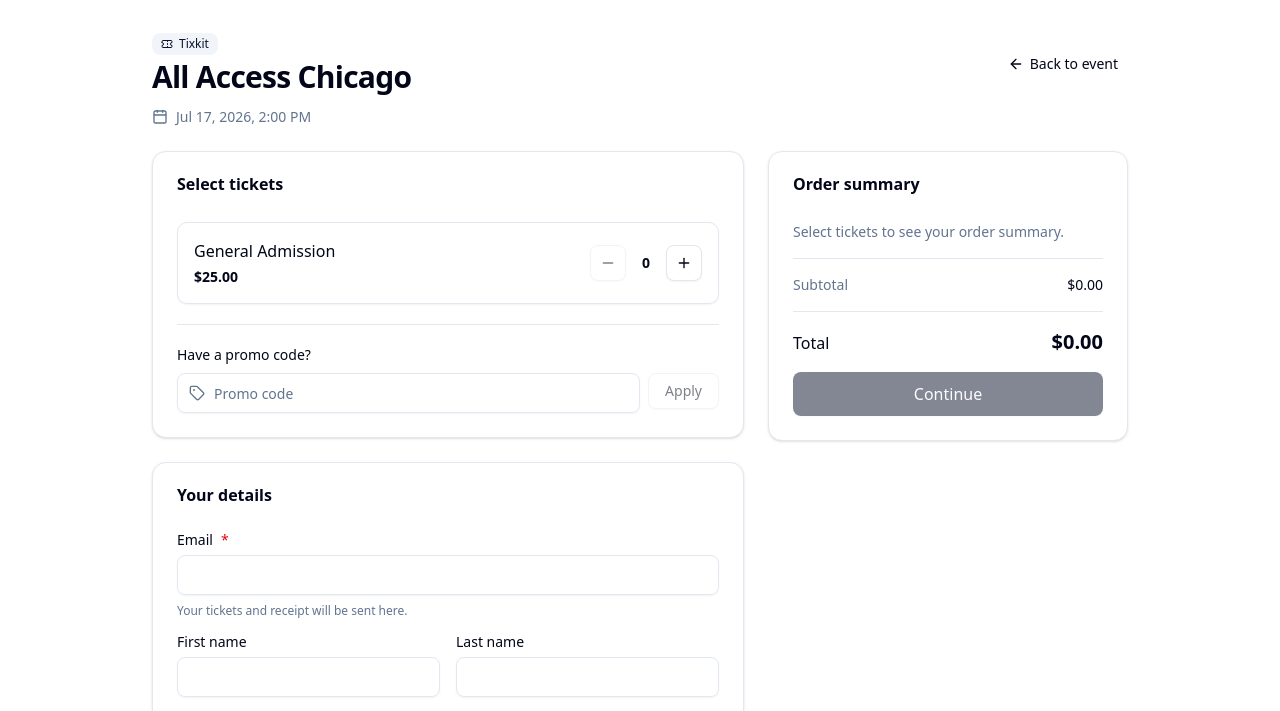
Test: CheckoutFlow buyer validation › lets buyers submit a selected cart to reveal inline email errors
The image size is (1280, 711).
Expected: the text "General Admission" is shown, [194,239,335,263]
Click the button named "Increase General Admission quantity" at (684,263), box [666,245,702,281]
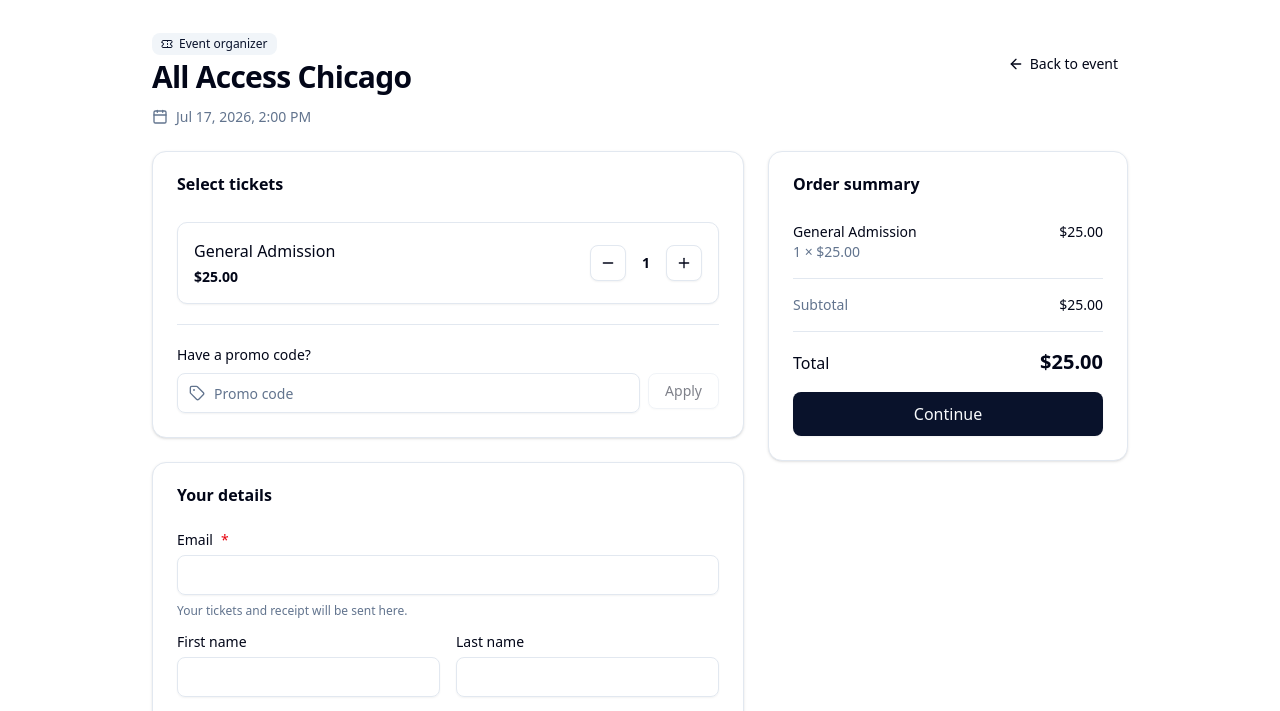
Expected: the button "Continue" is enabled
Click the button "Continue" at (948,414), box [793,392,1103,436]
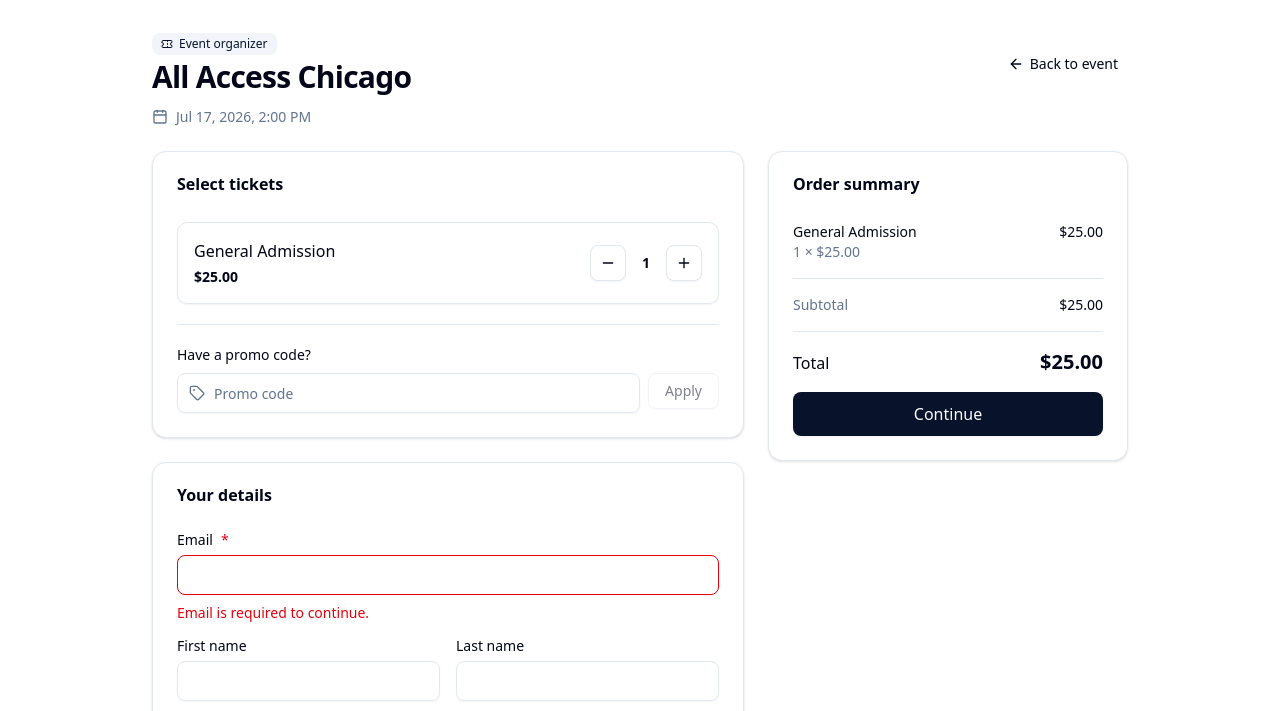
Expected: the text "Email is required to continue." is shown, [177,603,369,622]
